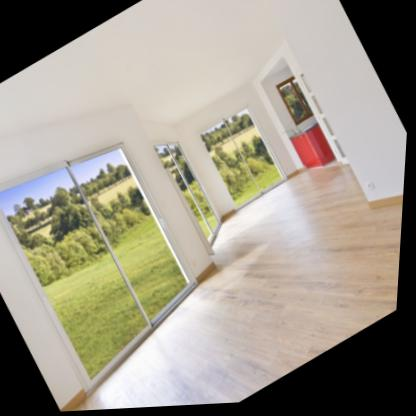Window: (0, 139, 203, 396), (199, 105, 291, 211), (154, 142, 226, 249)
